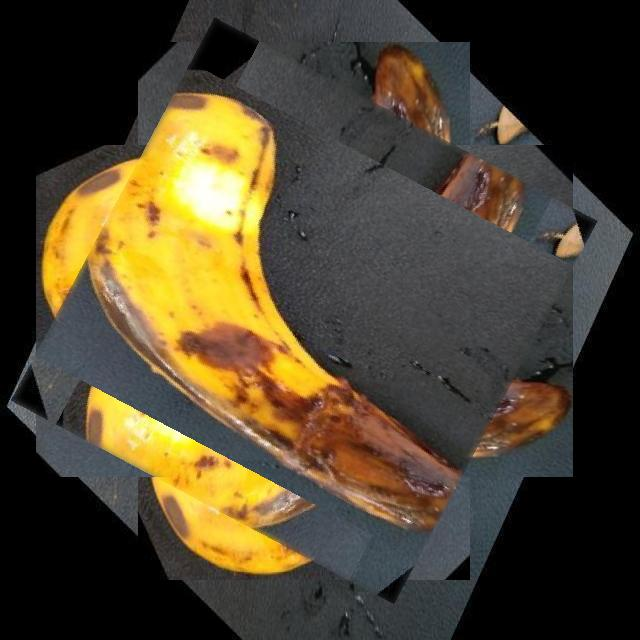Podre: (49, 56, 559, 566)
